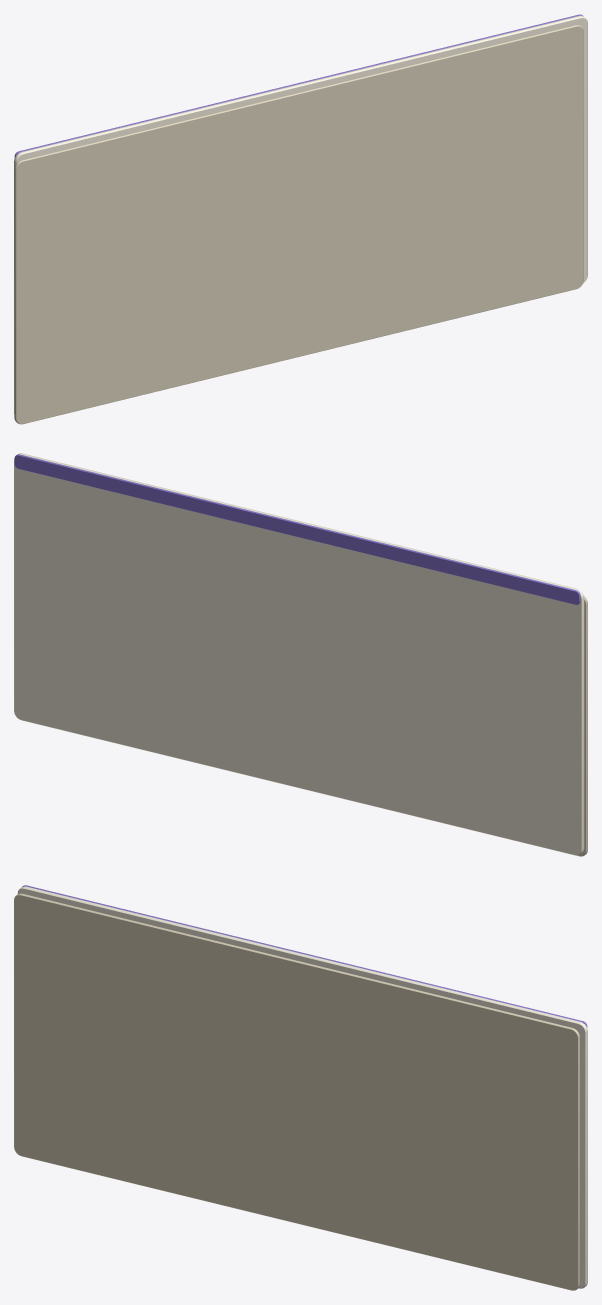
The model's file is Doc_PaperV2_DetailsSheet.fbx.
The picture shows the model from 3 angles, top to bottom: view 1: azimuth 30°, elevation 25°; view 2: azimuth 150°, elevation 25°; view 3: azimuth 330°, elevation 25°; orthographic projection.
Parts seen in each view (by area): view 1: PaperDet_PaperEdge, PaperDet_Paper, DetailsStrip; view 2: PaperDet_Paper, DetailsStrip, PaperDet_PaperEdge; view 3: PaperDet_PaperEdge, PaperDet_Paper, DetailsStrip.
Boxes of the visible parts, bbox=[...] form: PaperDet_PaperEdge: bbox=[14, 24, 583, 424]; PaperDet_Paper: bbox=[14, 15, 587, 413]; DetailsStrip: bbox=[14, 14, 583, 157]; PaperDet_Paper: bbox=[14, 453, 584, 855]; DetailsStrip: bbox=[14, 454, 580, 604]; PaperDet_PaperEdge: bbox=[577, 596, 587, 856]; PaperDet_PaperEdge: bbox=[14, 893, 579, 1290]; PaperDet_Paper: bbox=[17, 886, 587, 1288]; DetailsStrip: bbox=[22, 885, 587, 1027].
Size of the model in its own units: 30.1 by 13.5 by 0.46.
